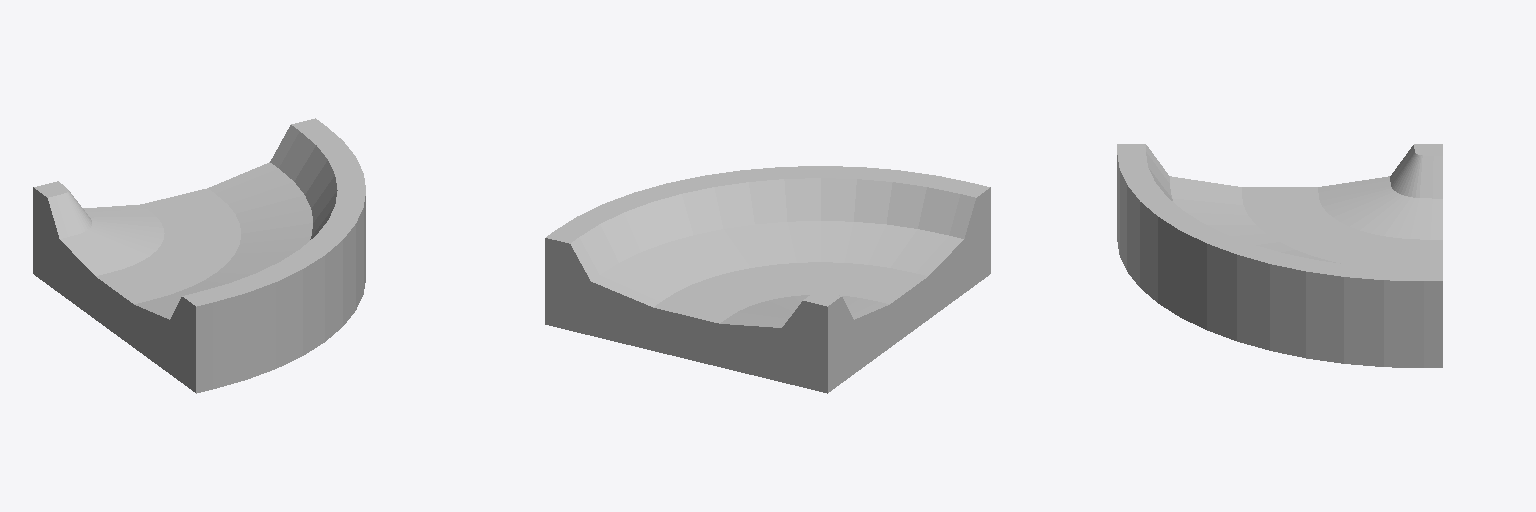
Rendered from curve-wide.obj.
The picture shows the model from 3 angles: view 1: azimuth 30°, elevation 25°; view 2: azimuth 150°, elevation 25°; view 3: azimuth 270°, elevation 25°; orthographic projection.
Parts seen in each view (by area): view 1: curve-wide; view 2: curve-wide; view 3: curve-wide.
Boxes of the visible parts, <box> form: curve-wide: <box>33,118,365,393</box>; curve-wide: <box>545,166,990,393</box>; curve-wide: <box>1117,144,1442,367</box>.
Bounding box in the file's own units: 1.7 × 0.5 × 1.7.